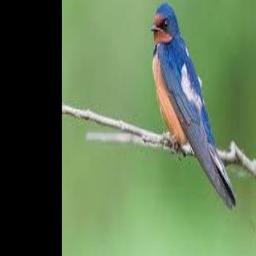Swallow: (150, 5, 237, 209)
